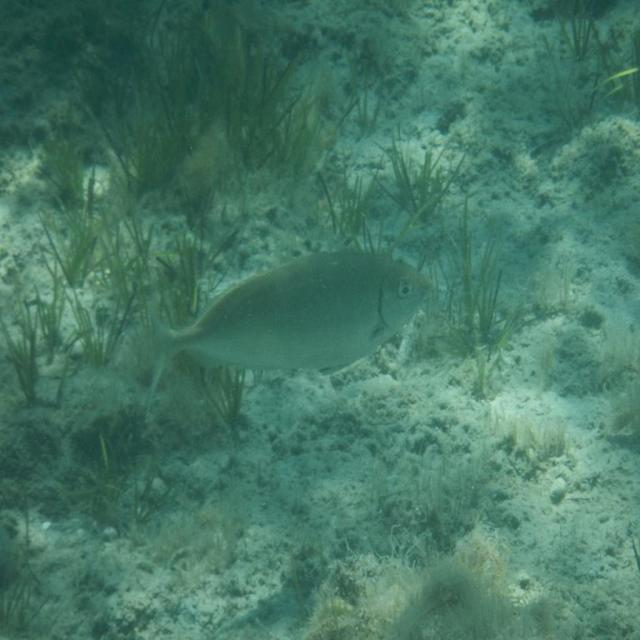Sokar Baligi: (134, 237, 438, 428)
